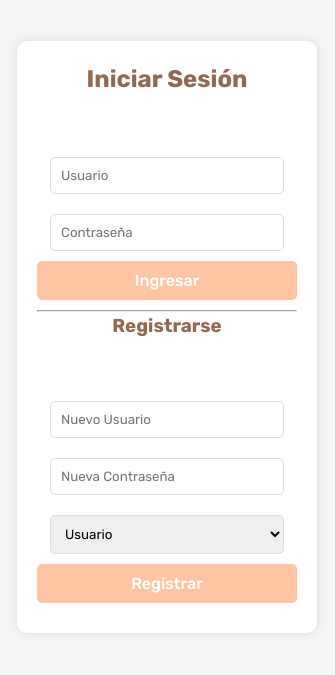
Test: Componente Login › muestra mensaje de error si el usuario no existe
Type "fakeuser" into the field with placeholder "Usuario". click: coordinates (167, 176)
box: [50,158,284,194]
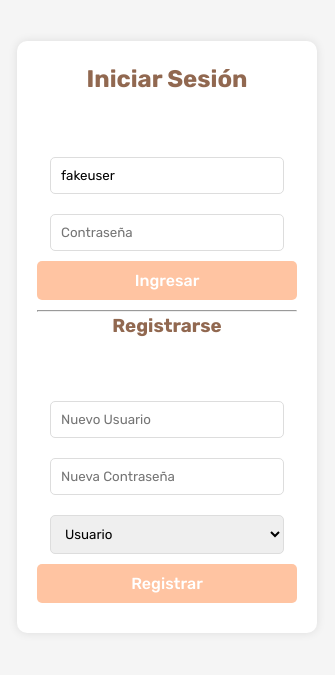
Type "1234" into the password field with placeholder "Contraseña". click: coordinates (167, 233)
box: [50,214,284,252]
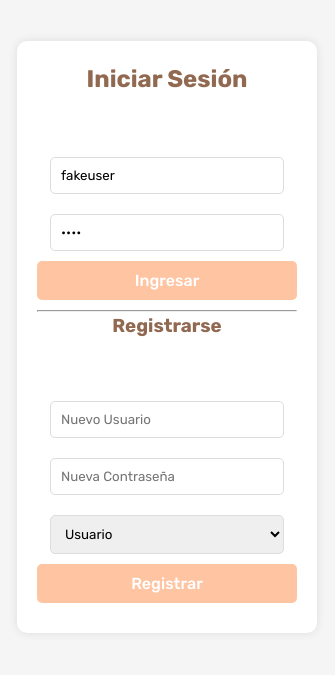
Click the button "Ingresar". click: coordinates (167, 281)
box: [37,262,297,300]
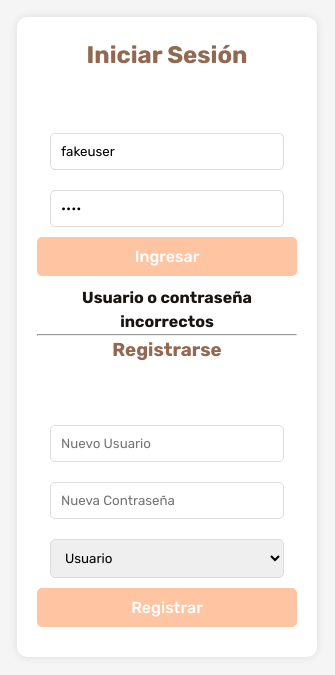
Expected: the text "Usuario o contraseña incorrectos" is shown, [82,288,252,332]
